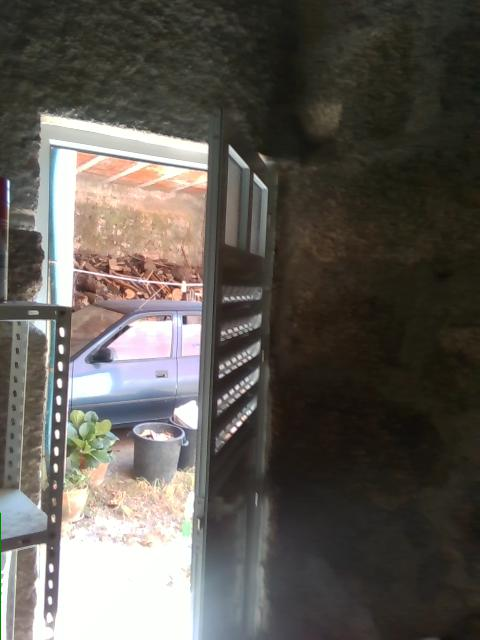semi_door: (31, 98, 280, 639)
